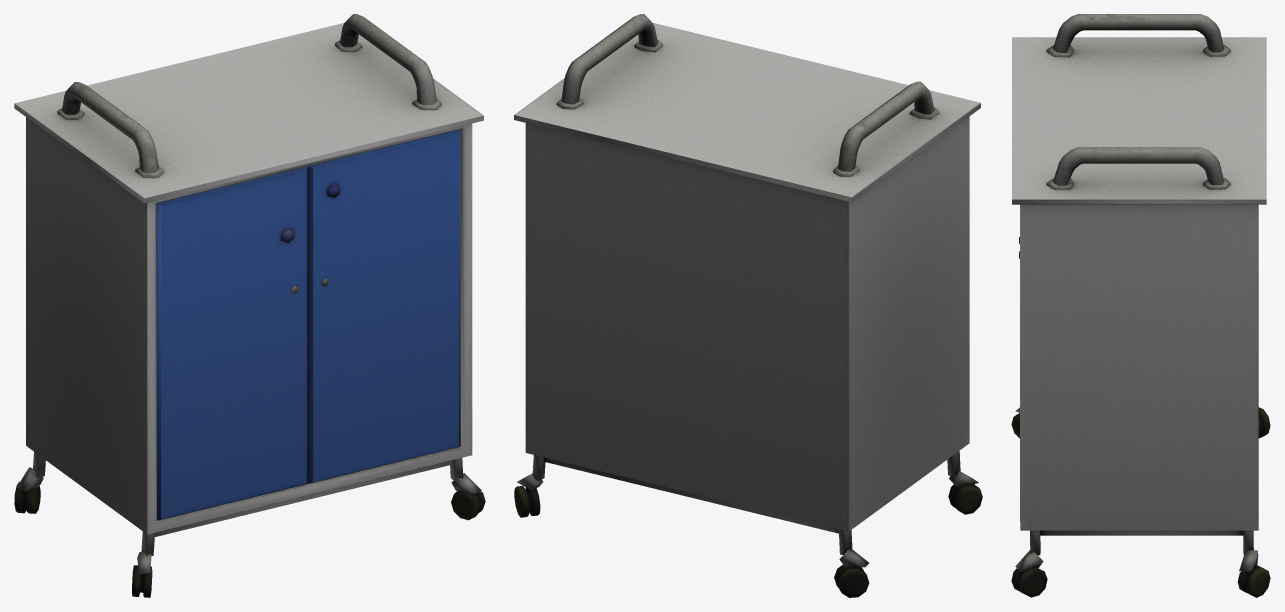
The model's file is SM_Blue_Cabinet.FBX.
3 renders of one model, left to right at view 1: azimuth 30°, elevation 25°; view 2: azimuth 150°, elevation 25°; view 3: azimuth 270°, elevation 25°, orthographic.
Visible parts, largest first — view 1: SM_Blue_Cabinet; view 2: SM_Blue_Cabinet; view 3: SM_Blue_Cabinet.
Part boxes in pixels (left/top/right/bottom): SM_Blue_Cabinet: left=14, top=14, right=485, bottom=597; SM_Blue_Cabinet: left=514, top=14, right=982, bottom=597; SM_Blue_Cabinet: left=1011, top=14, right=1270, bottom=597.
Bounding box in the file's own units: 86.26 × 55.28 × 103.
